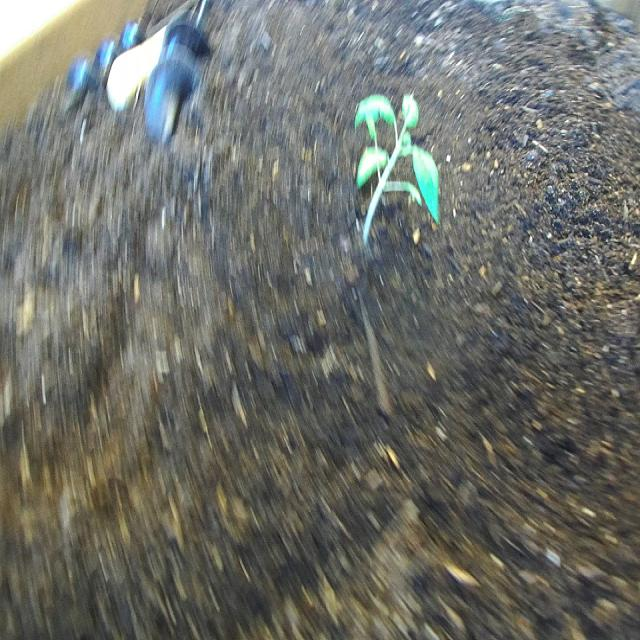Healthy: (346, 76, 446, 264)
